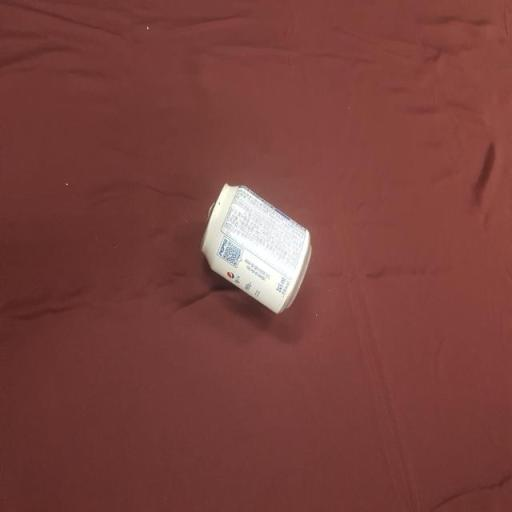metal: (190, 174, 324, 330)
